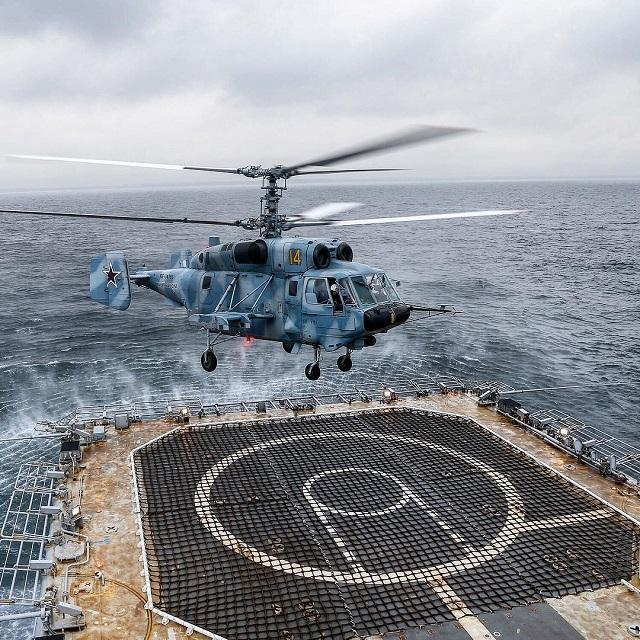MIL_HELO: (8, 116, 539, 387)
